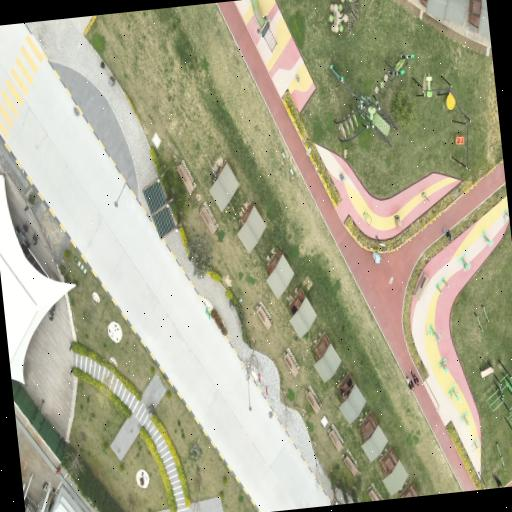person: (411, 369, 419, 385), (493, 473, 502, 487), (443, 228, 452, 240), (406, 376, 414, 389)
